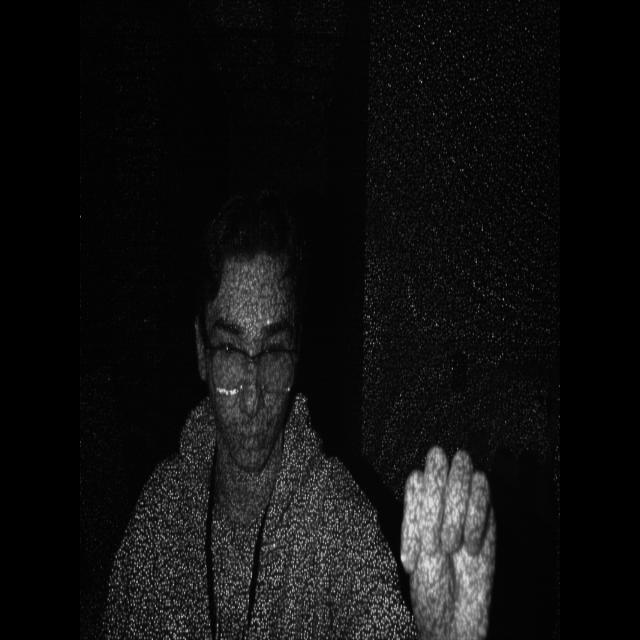E: (393, 438, 507, 640)
